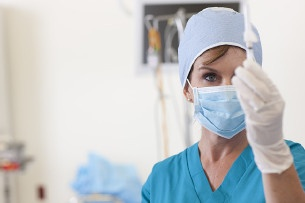Mask: (188, 59, 267, 138)
